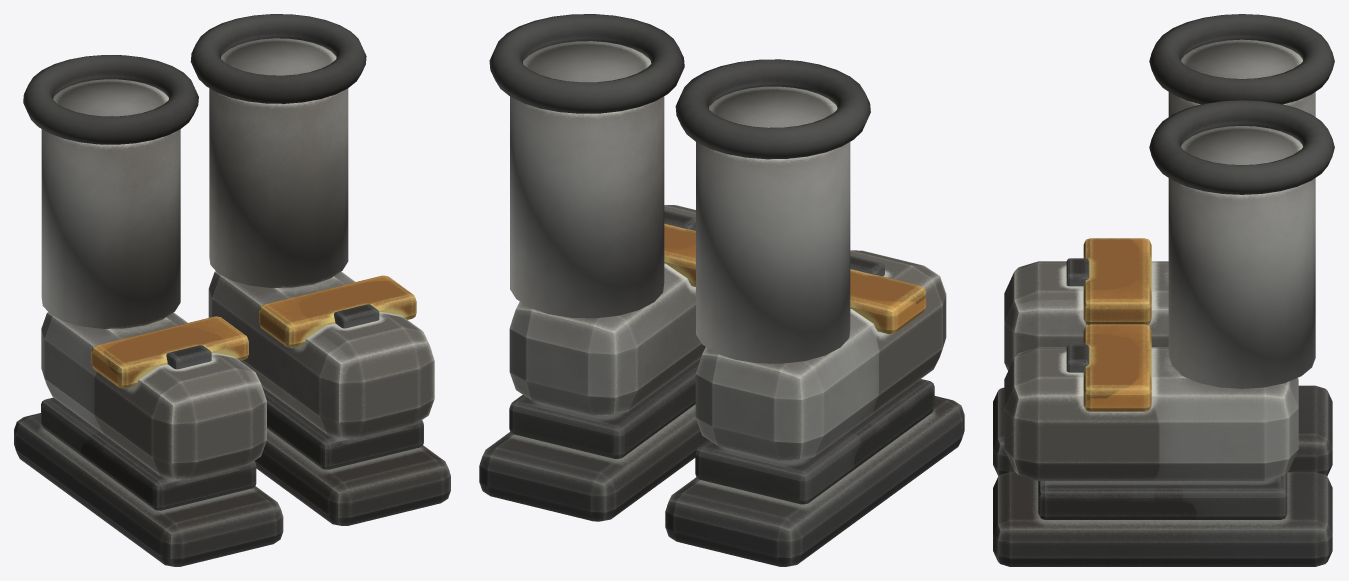
Rendered from airlock_mag_boots.glb.
3 renders of one model, left to right at view 1: azimuth 30°, elevation 25°; view 2: azimuth 150°, elevation 25°; view 3: azimuth 270°, elevation 25°, orthographic. The views are drawn at different scales.
Parts seen in each view (by area): view 1: MagBoots; view 2: MagBoots; view 3: MagBoots.
Boxes of the visible parts, <box> form: MagBoots: <box>14,14,450,566</box>; MagBoots: <box>479,14,964,566</box>; MagBoots: <box>993,14,1334,566</box>.
Bounding box in the file's own units: 0.344 × 0.399 × 0.302.
Materials: 4 (4 with a texture image).
